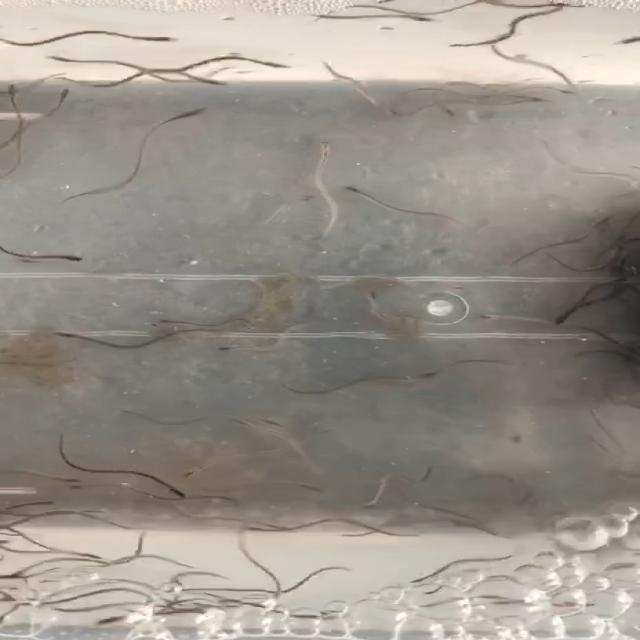active_glass_eel: (126, 28, 178, 42), (169, 108, 212, 122), (45, 49, 85, 64), (183, 74, 233, 86), (7, 255, 53, 268), (433, 101, 464, 119), (85, 615, 124, 629), (179, 464, 211, 481), (300, 480, 334, 496), (262, 59, 300, 73), (573, 49, 620, 60), (0, 82, 23, 104), (314, 137, 338, 158), (63, 547, 104, 559), (504, 427, 527, 448), (48, 253, 88, 265), (228, 414, 260, 429), (216, 344, 257, 355), (488, 31, 525, 43), (471, 312, 508, 324), (258, 418, 292, 431), (52, 85, 72, 107), (396, 12, 438, 22), (403, 370, 441, 381), (170, 484, 192, 502), (50, 473, 86, 484), (348, 185, 374, 200), (21, 499, 64, 508), (382, 104, 407, 119), (47, 327, 81, 338), (553, 312, 576, 328), (552, 84, 580, 97), (446, 41, 478, 52), (519, 94, 551, 105), (292, 194, 322, 205), (446, 283, 476, 293), (231, 524, 263, 533), (358, 497, 380, 510), (1, 568, 29, 578), (65, 483, 98, 491), (592, 215, 612, 228), (148, 320, 180, 328), (367, 288, 383, 304), (586, 259, 598, 271)
